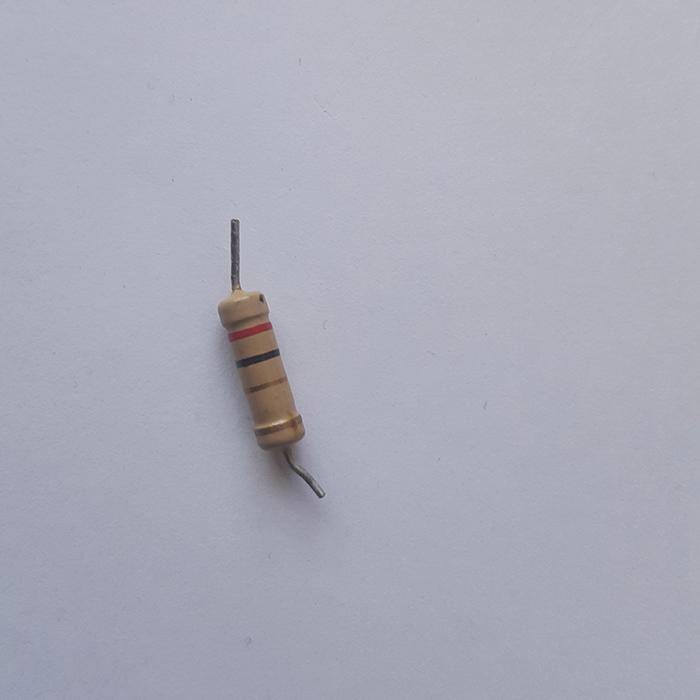resistor: (218, 285, 305, 450)
